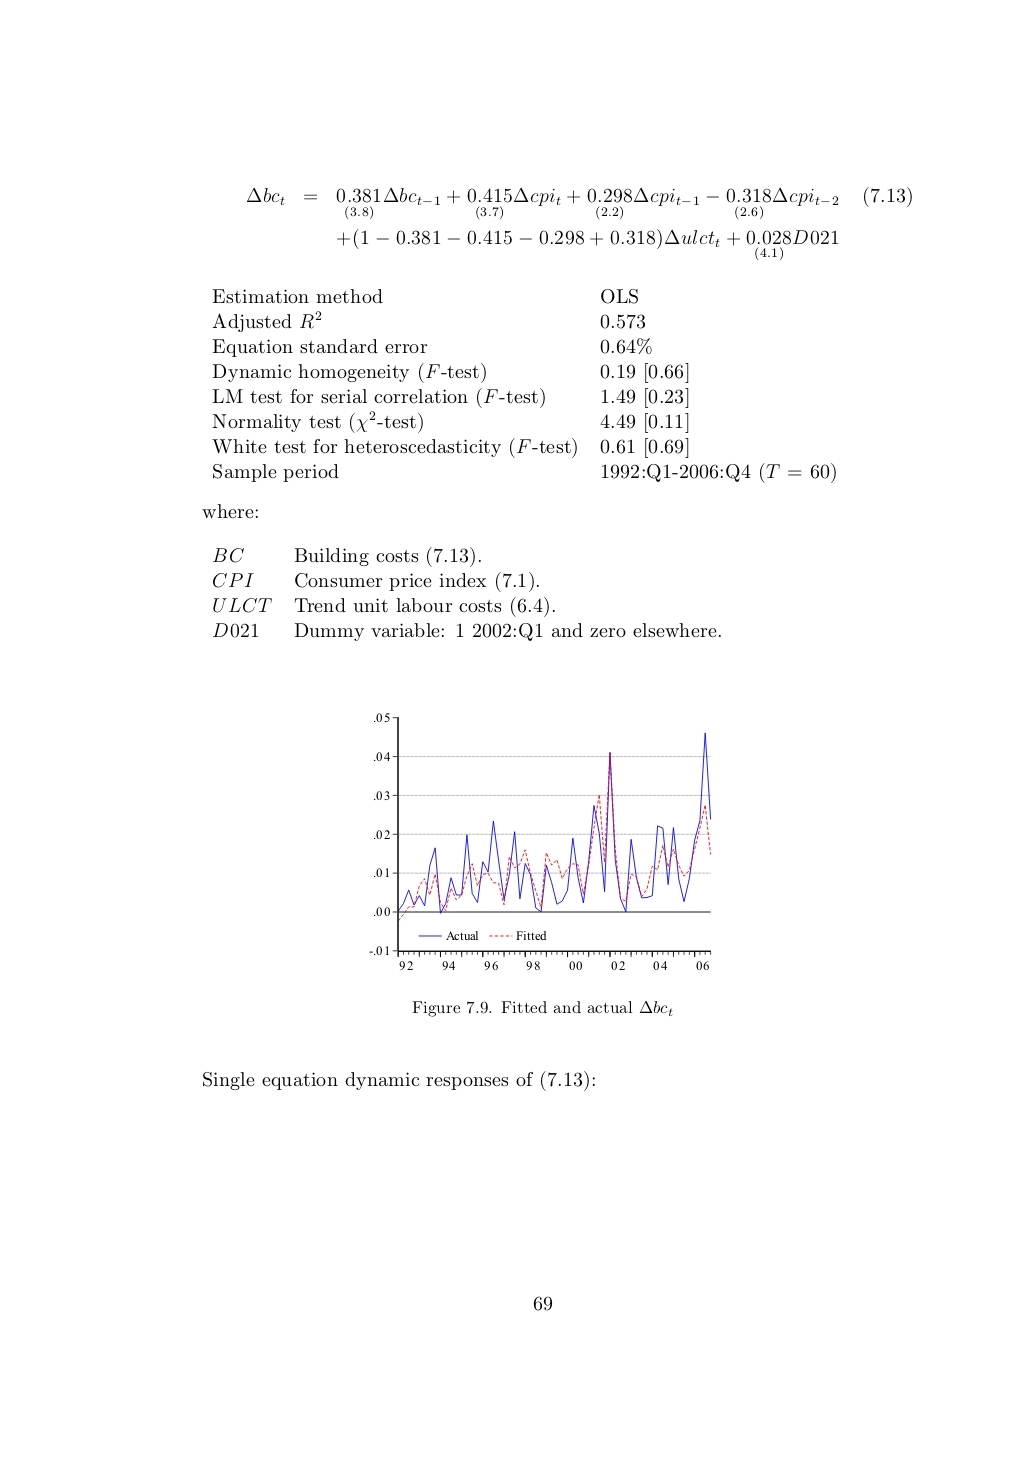figure: (369, 713, 711, 970)
formula: (247, 188, 911, 219), (337, 228, 838, 261)
